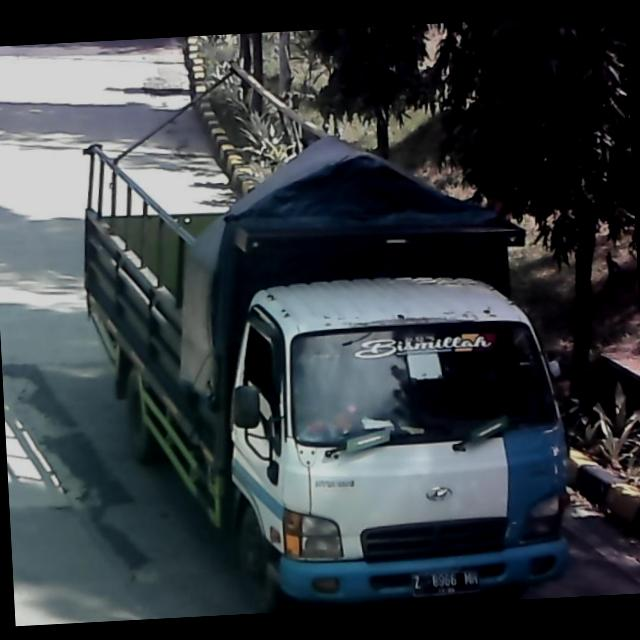plate: (406, 565, 484, 599)
